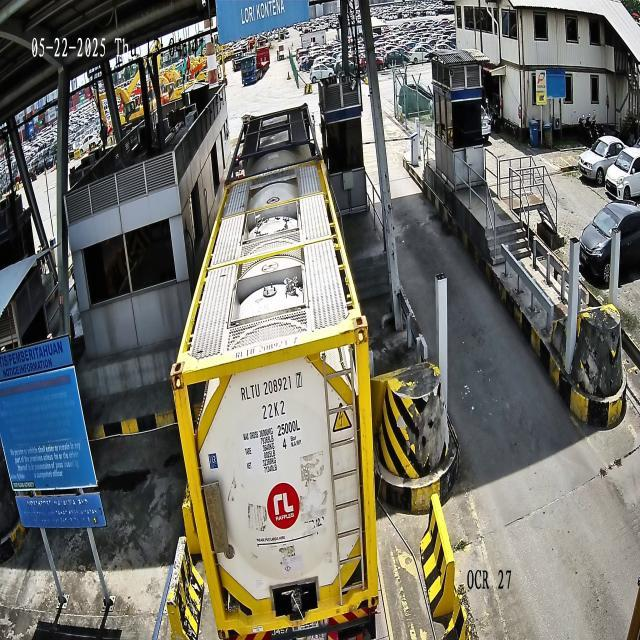ISO: (262, 400, 286, 420)
container_number: (240, 368, 304, 403)
